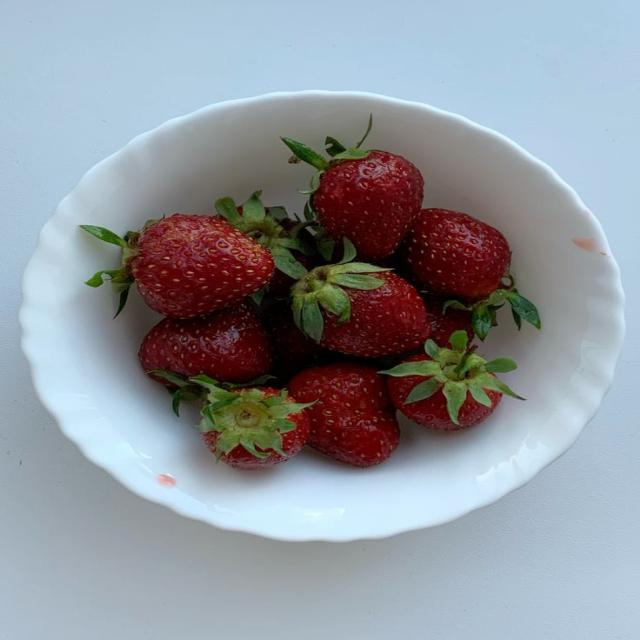strawberry: (82, 214, 274, 318), (283, 119, 423, 260), (404, 209, 540, 339), (380, 331, 522, 429), (292, 262, 428, 357), (288, 363, 399, 467), (191, 376, 310, 469), (140, 302, 272, 382), (216, 192, 313, 296), (405, 209, 511, 300), (261, 303, 328, 380), (422, 295, 473, 344)
